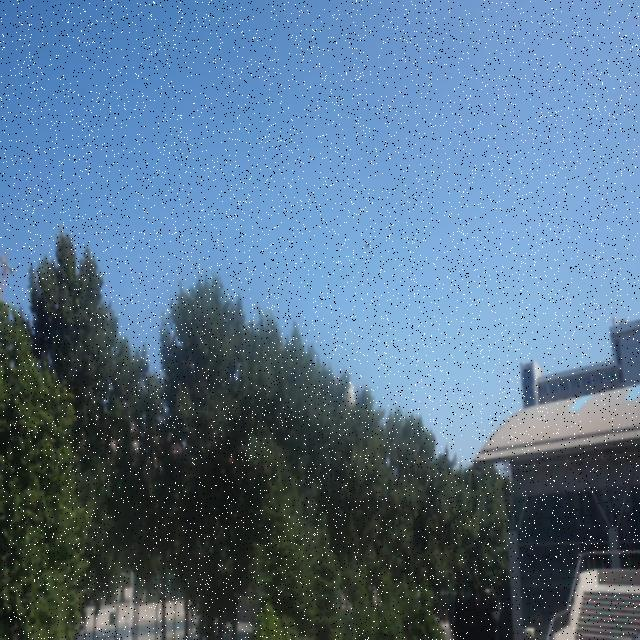UAV: (364, 243, 372, 248)
